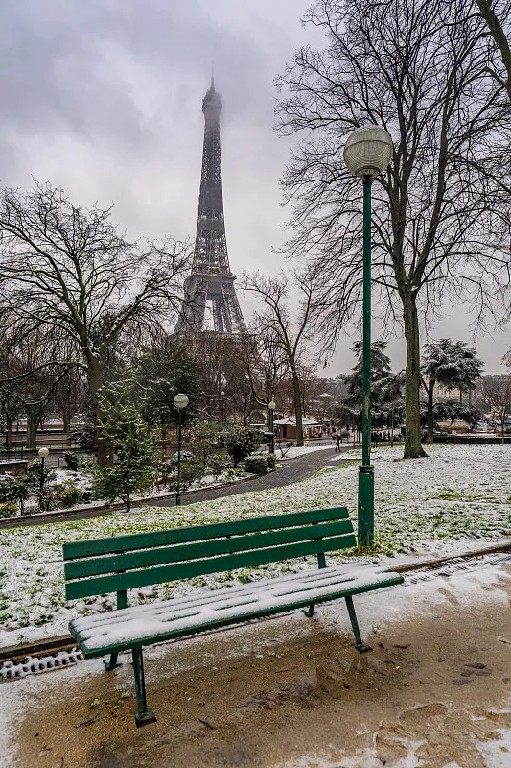Eiffel: (149, 57, 268, 398)
